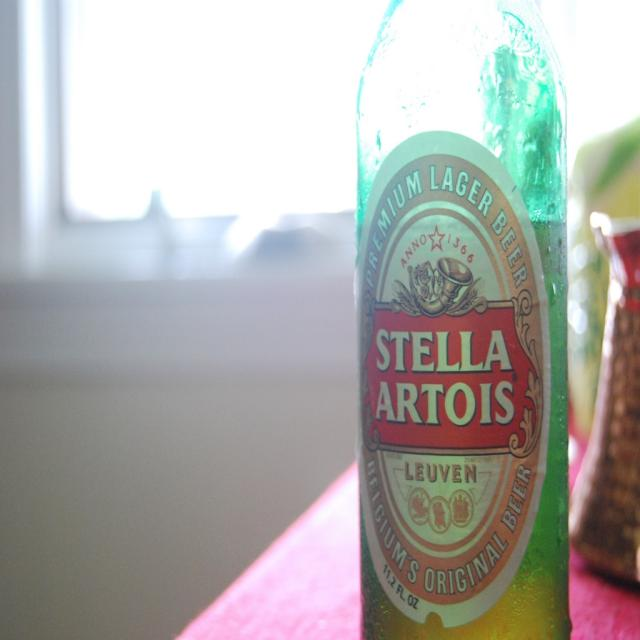stellaartois: (357, 153, 542, 605)
